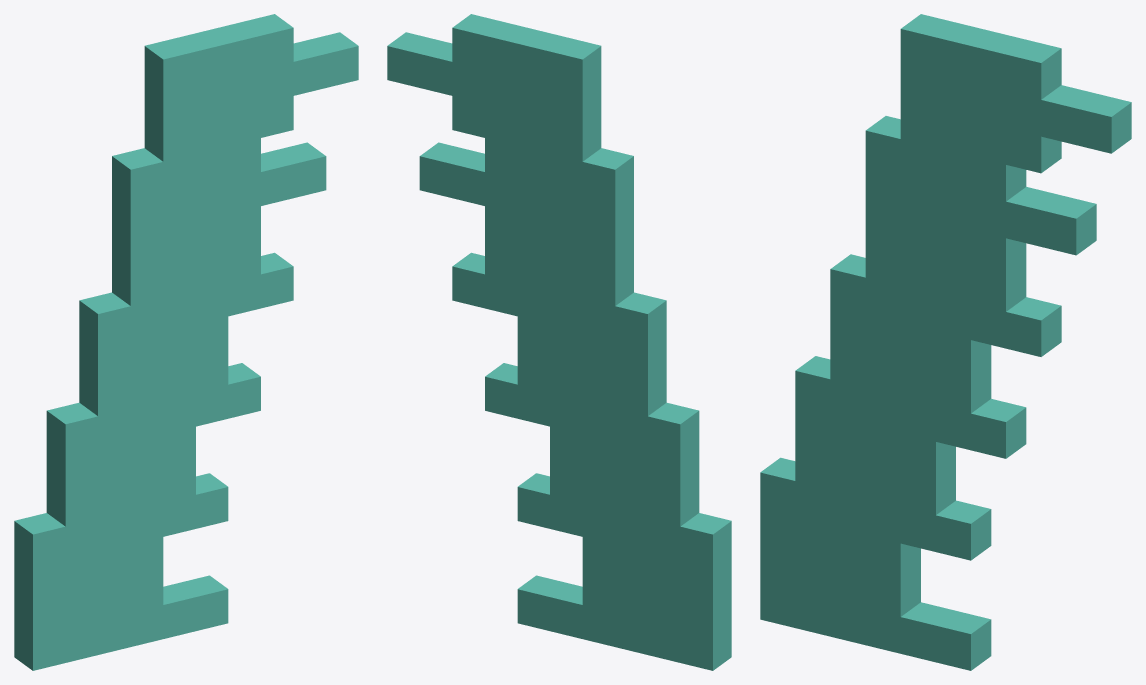
The model's file is alien-biosphere-toothed-ribbon-f73bc5cc__22702.glb.
3 renders of one model, left to right at view 1: azimuth 30°, elevation 25°; view 2: azimuth 150°, elevation 25°; view 3: azimuth 330°, elevation 25°, orthographic. The views are drawn at different scales.
Visible parts, largest first — view 1: toothed-ribbon; view 2: toothed-ribbon; view 3: toothed-ribbon.
Boxes of the visible parts, bbox=[...] form: toothed-ribbon: bbox=[14, 14, 358, 670]; toothed-ribbon: bbox=[387, 14, 731, 670]; toothed-ribbon: bbox=[760, 14, 1131, 670].
Size of the model in its own units: 1.2 by 2.04 by 0.12.
